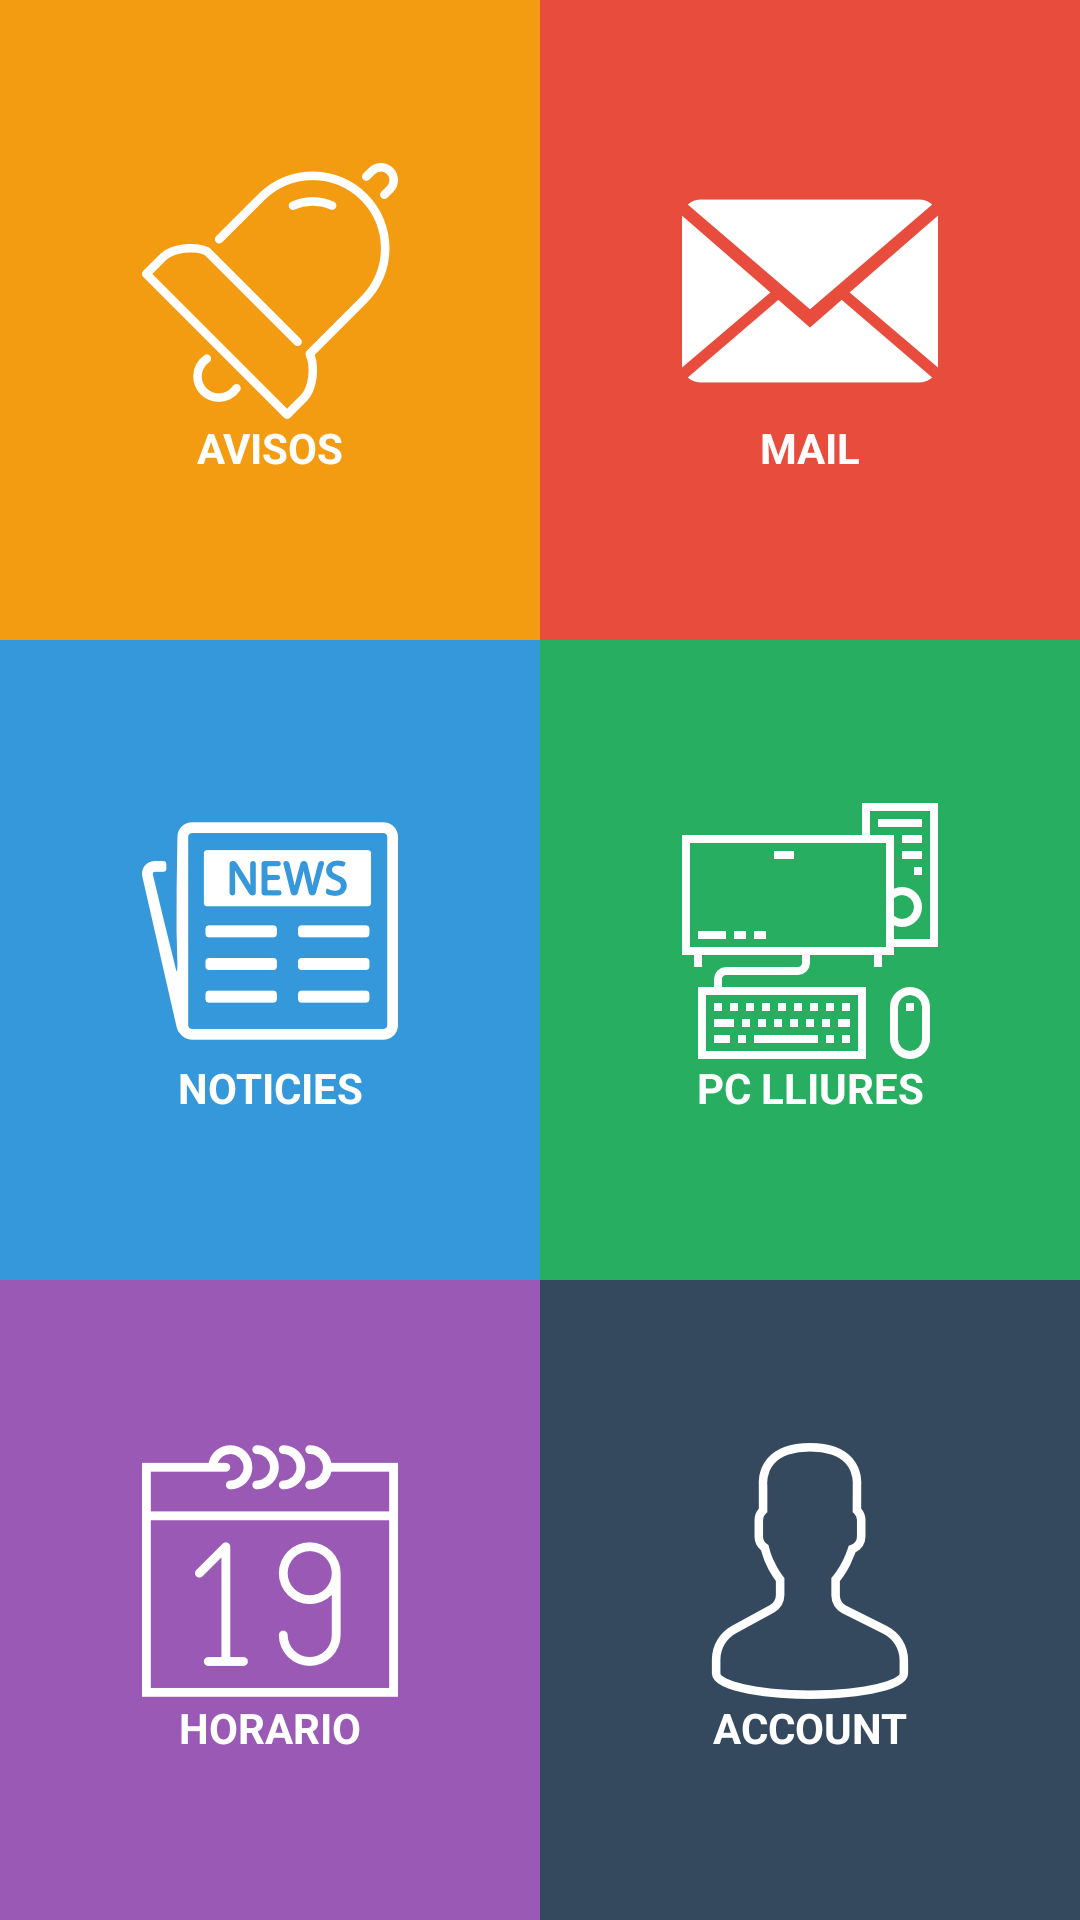

Icon bounding boxes for this 1080×1920 phone screenshot, format (x1, y1, x2, y2):
bell: (142, 163, 398, 419)
calendar: (142, 1445, 398, 1697)
user: (711, 1443, 909, 1699)
